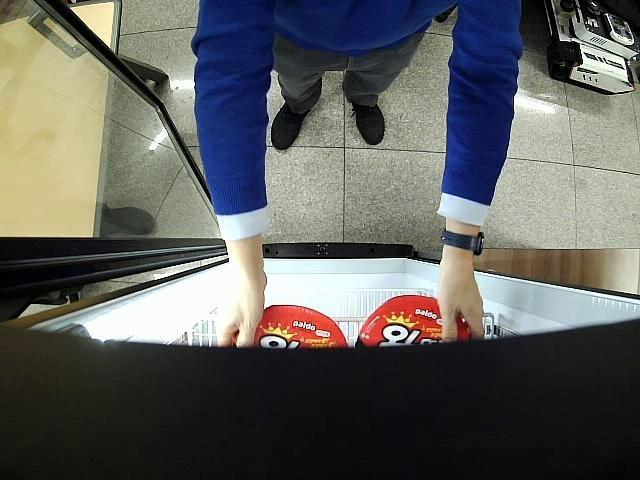10_wangTtukkeong: (355, 294, 471, 344), (230, 304, 349, 347)
